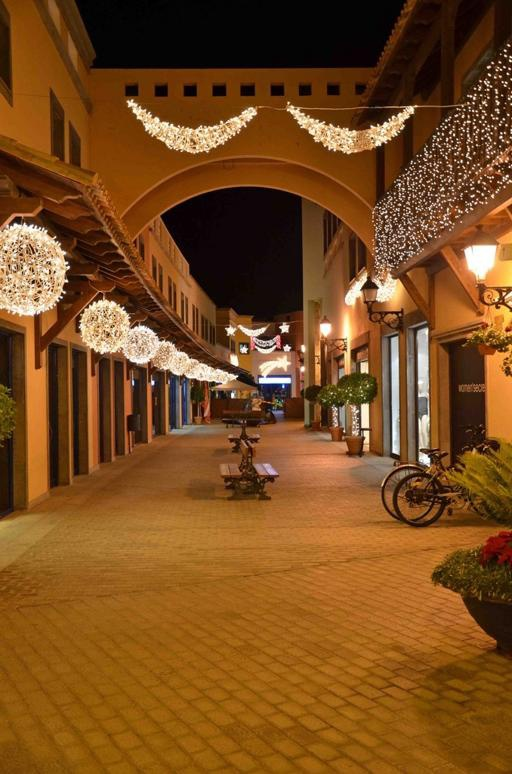non-vehicle: (391, 422, 501, 527), (380, 423, 490, 520)
